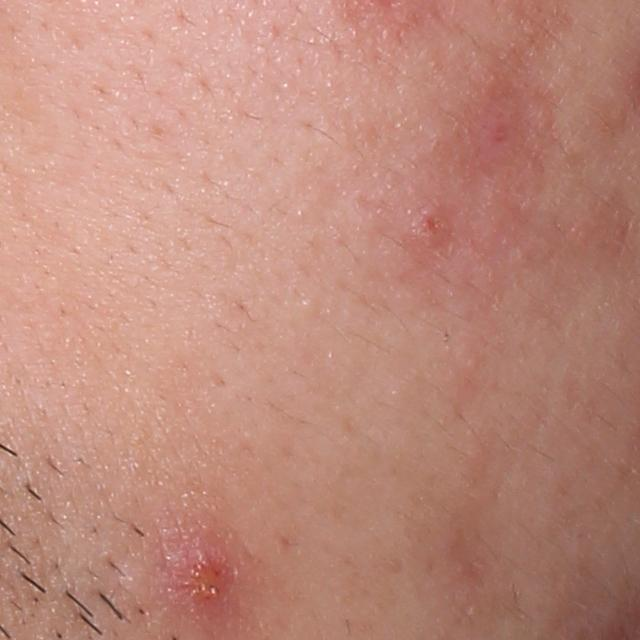papule: (163, 524, 250, 617), (410, 203, 461, 251)
